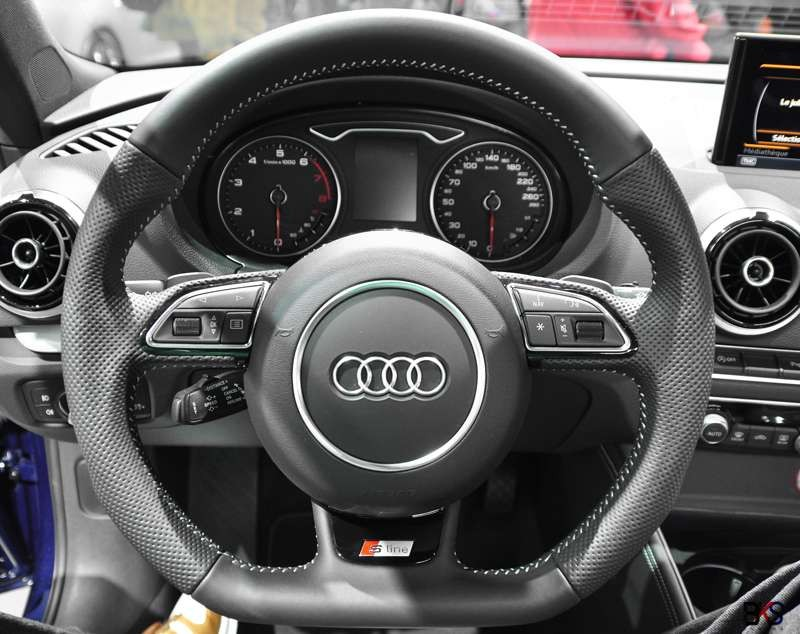audi: (325, 348, 455, 406)
